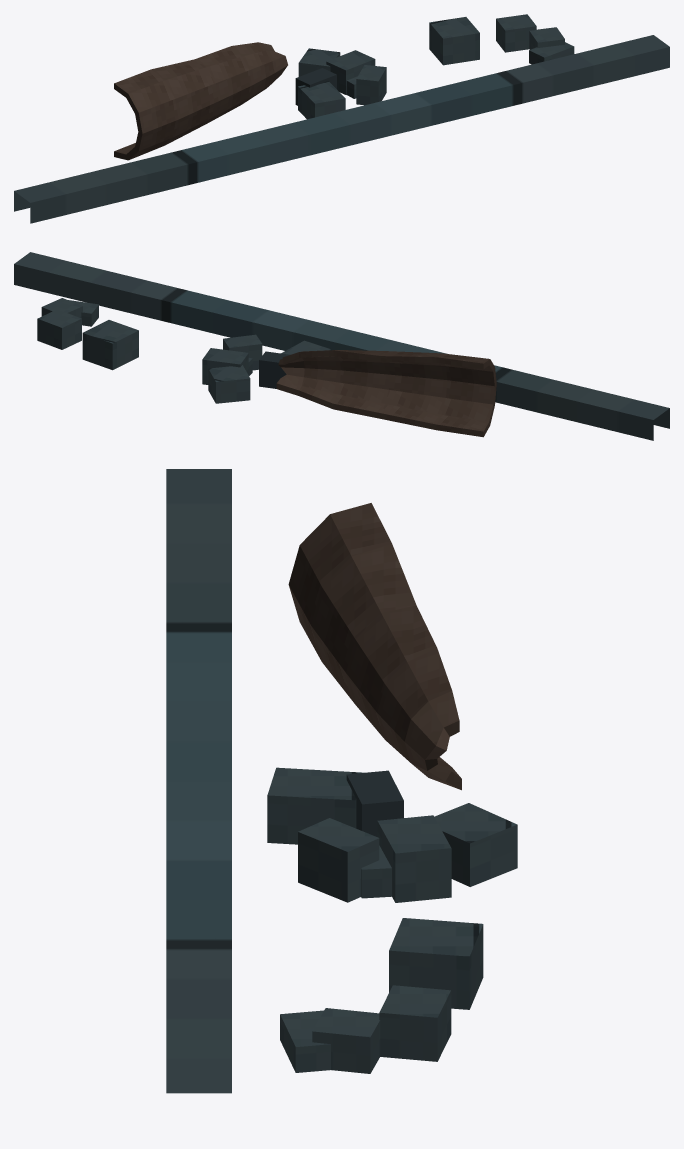
Rendered from T1_Lane_End_B.fbx.
The picture shows the model from 3 angles, top to bottom: view 1: azimuth 30°, elevation 25°; view 2: azimuth 150°, elevation 25°; view 3: azimuth 270°, elevation 25°; orthographic projection. The views are drawn at different scales.
Parts seen in each view (by area): view 1: T1_Lane_End_B; view 2: T1_Lane_End_B; view 3: T1_Lane_End_B.
Part boxes in pixels (bbox=[...]): T1_Lane_End_B: bbox=[14, 14, 669, 223]; T1_Lane_End_B: bbox=[14, 252, 669, 440]; T1_Lane_End_B: bbox=[166, 469, 517, 1093].
Bounding box in the file's own units: 4.5 × 0.4952 × 1.07.
